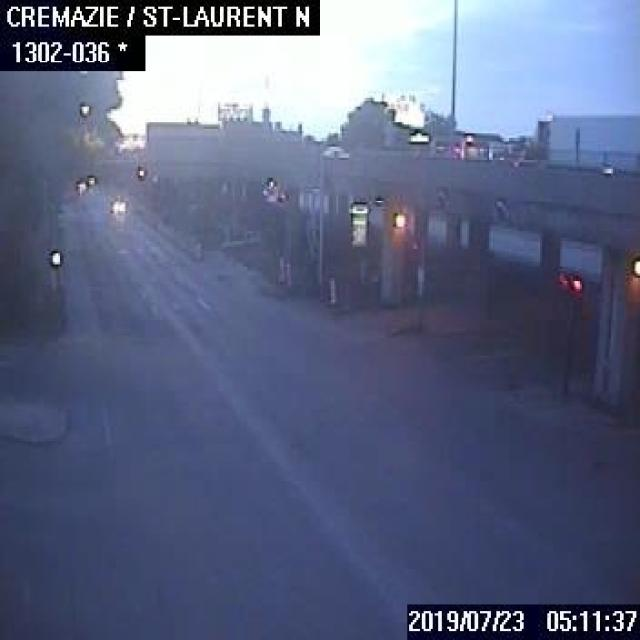construction: (327, 274, 335, 303), (276, 255, 283, 281), (284, 260, 291, 284)
vehicle: (108, 196, 126, 211)
